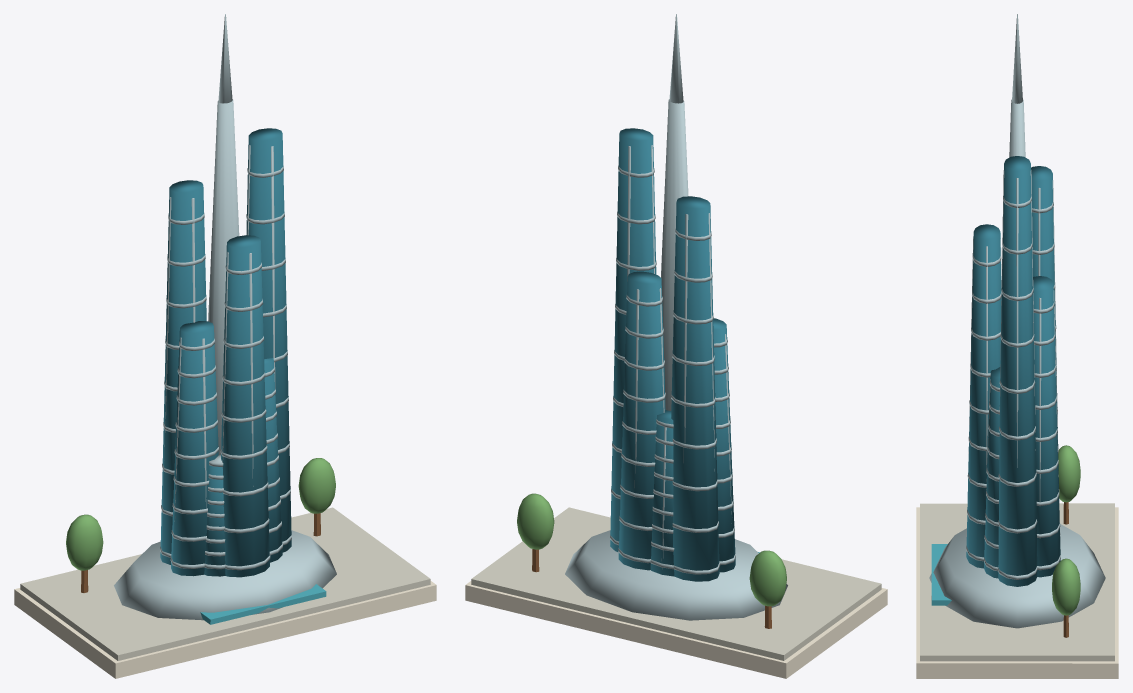
File: burj-khalifa.glb
The picture shows the model from 3 angles, left to right: view 1: azimuth 30°, elevation 25°; view 2: azimuth 150°, elevation 25°; view 3: azimuth 270°, elevation 25°; orthographic projection.
Visible parts, largest first — view 1: Burj Khalifa; view 2: Burj Khalifa; view 3: Burj Khalifa.
Part boxes in pixels (x1,y1,x2,y2): Burj Khalifa: (14,14,436,678); Burj Khalifa: (465,14,887,678); Burj Khalifa: (916,14,1118,678).
Bounding box in the file's own units: 1.47 × 2.58 × 0.8053.
